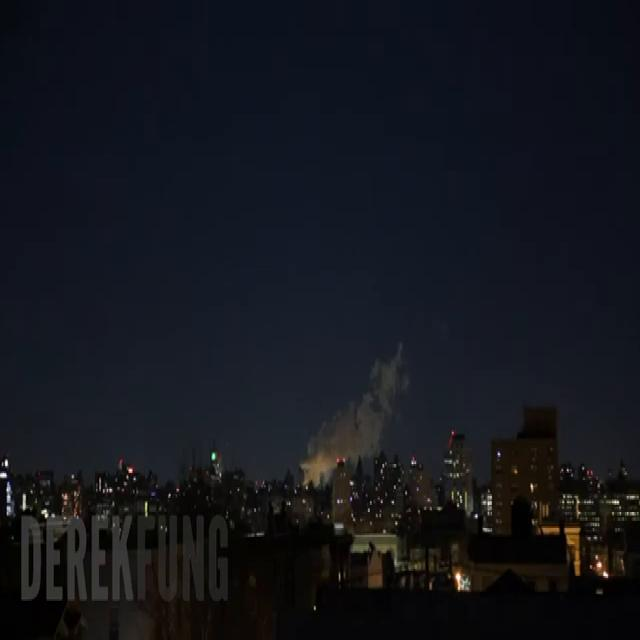smoke: (301, 341, 409, 478)
